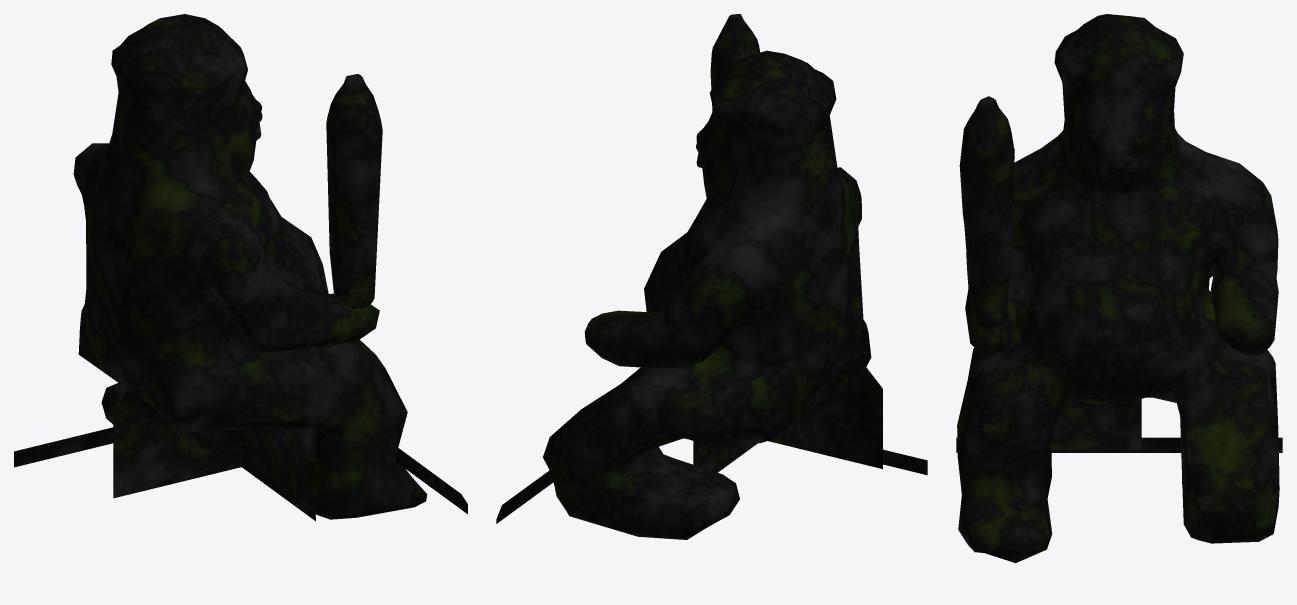
File: Dwarapala.fbx
The picture shows the model from 3 angles, left to right: view 1: azimuth 30°, elevation 25°; view 2: azimuth 150°, elevation 25°; view 3: azimuth 270°, elevation 25°; orthographic projection. The views are drawn at different scales.
Visible parts, largest first — view 1: Dwarapala.002; view 2: Dwarapala.002; view 3: Dwarapala.002.
Boxes of the visible parts, x1,y1,x2,y2 form: Dwarapala.002: (14, 14, 467, 521); Dwarapala.002: (496, 14, 927, 539); Dwarapala.002: (956, 14, 1282, 563).
Size of the model in its own units: 764 by 1217 by 764.
